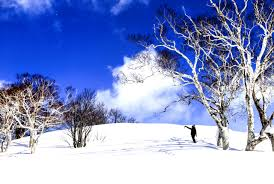sky: (2, 2, 214, 123)
tree: (159, 5, 273, 153), (1, 78, 58, 151), (63, 87, 107, 151)
